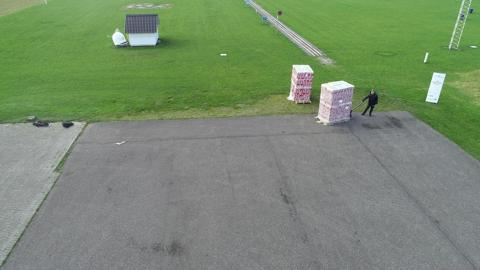RockwoolPallet: (291, 64, 314, 106)
